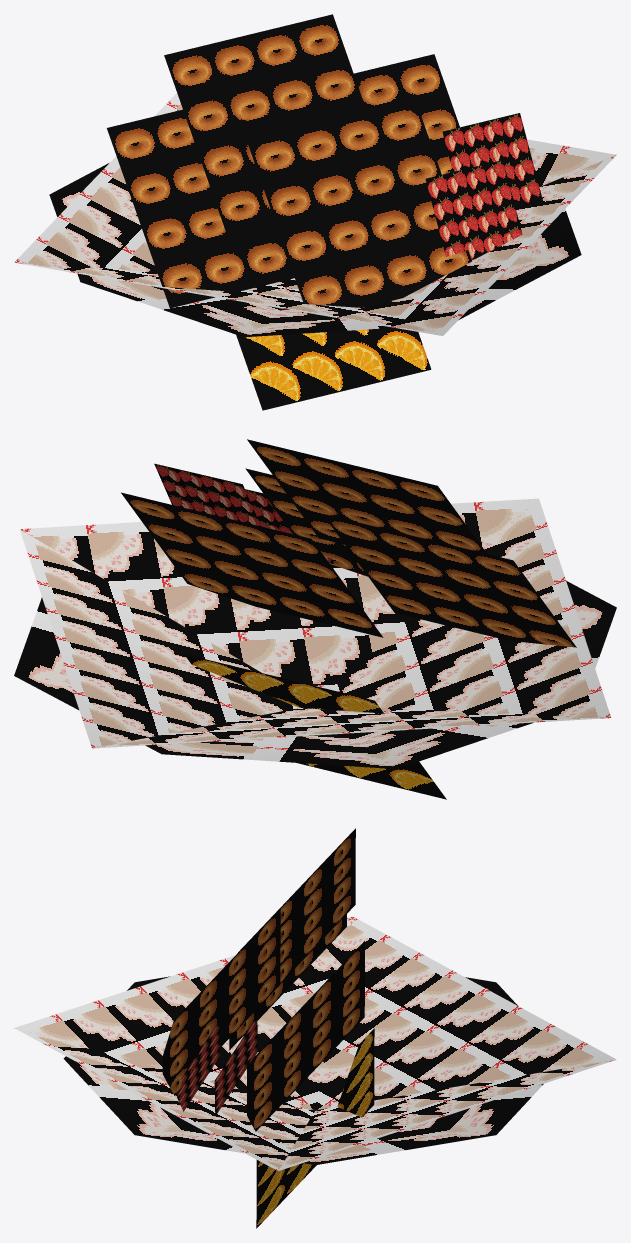
File: 5544u_dornt_ss.gltf
3 renders of one model, top to bottom at view 1: azimuth 30°, elevation 25°; view 2: azimuth 150°, elevation 25°; view 3: azimuth 270°, elevation 25°, orthographic. The views are drawn at different scales.
Parts seen in each view (by area): view 1: 5544u_dornt_ss; view 2: 5544u_dornt_ss; view 3: 5544u_dornt_ss.
Part boxes in pixels (box(x1,y1,x2,y2)): 5544u_dornt_ss: box(14, 14, 616, 410); 5544u_dornt_ss: box(14, 439, 616, 799); 5544u_dornt_ss: box(14, 828, 616, 1228).
Bounding box in the file's own units: 1.18 × 0.6572 × 1.18.
4 materials, 4 textured.
